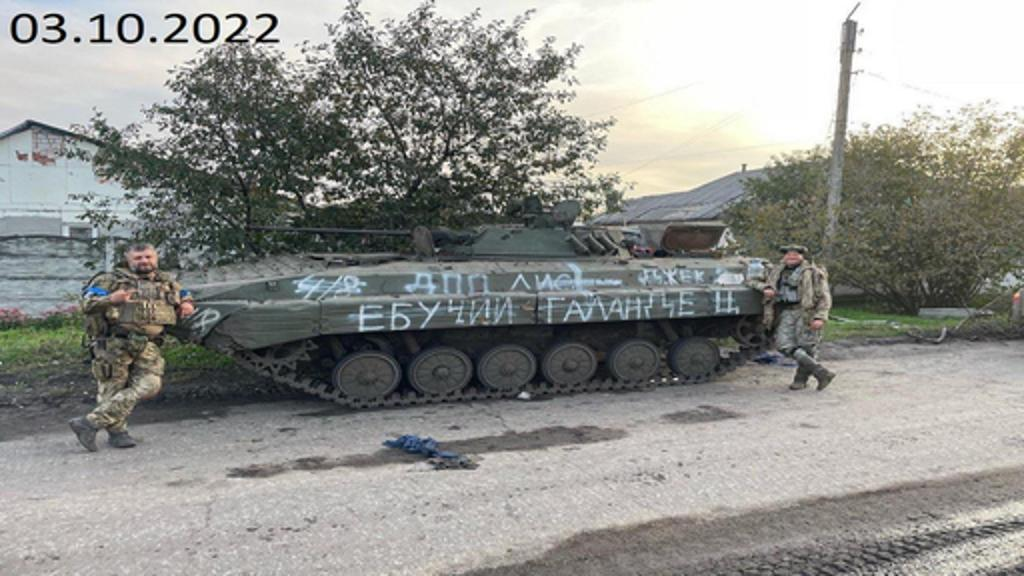APC-IFV: (134, 174, 792, 398)
